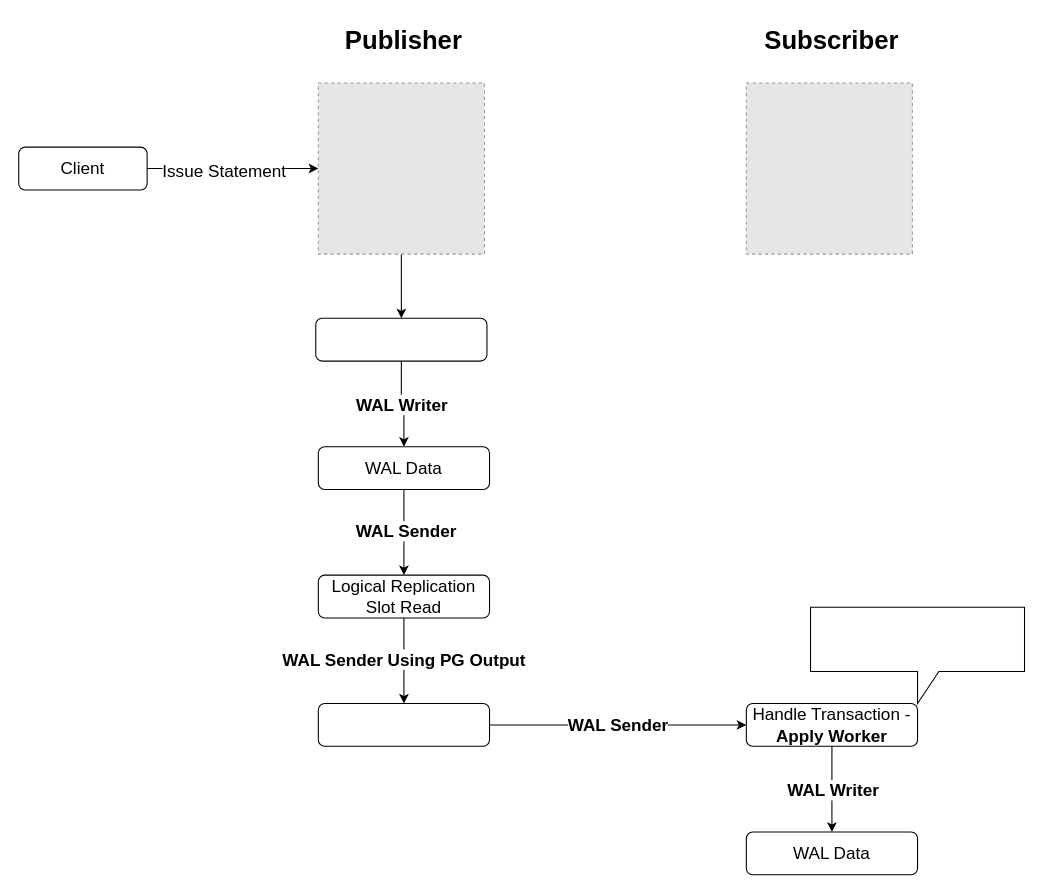
This 1043x893 diagram has some shape labels left out. Grey dashed boxes stand in for pictures. The shapes that lost their labels are listed below. From the top down, each one's centre as x and y in pixels, then its label:
the point at 401,339: Handle Transaction - Backend
the point at 917,655: On update / delete use REPLICA IDENTITY
the point at 403,724: Logical Transaction
